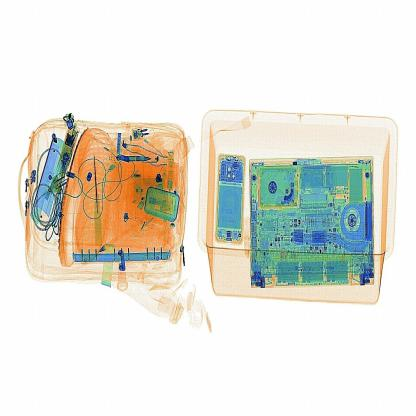wrench: (88, 149, 106, 244)
